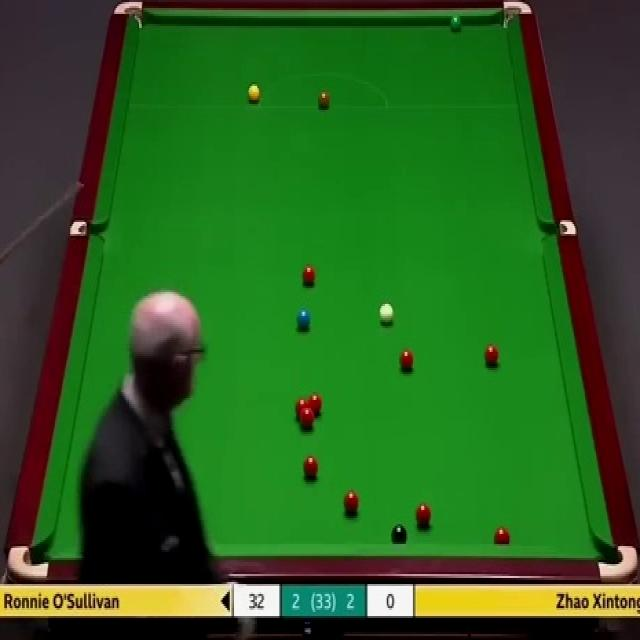black-ball: (389, 524, 407, 546)
blue-ball: (295, 308, 311, 333)
brown-ball: (316, 88, 330, 111)
green-ball: (449, 13, 464, 32)
red-ball: (398, 347, 416, 375), (341, 490, 359, 517), (302, 455, 319, 483), (414, 503, 431, 529), (302, 266, 318, 290), (484, 343, 499, 368), (308, 394, 322, 418), (494, 526, 510, 546), (301, 410, 314, 430), (295, 398, 308, 418)
white-ball: (376, 301, 394, 329)
yellow-ball: (246, 83, 260, 103)
